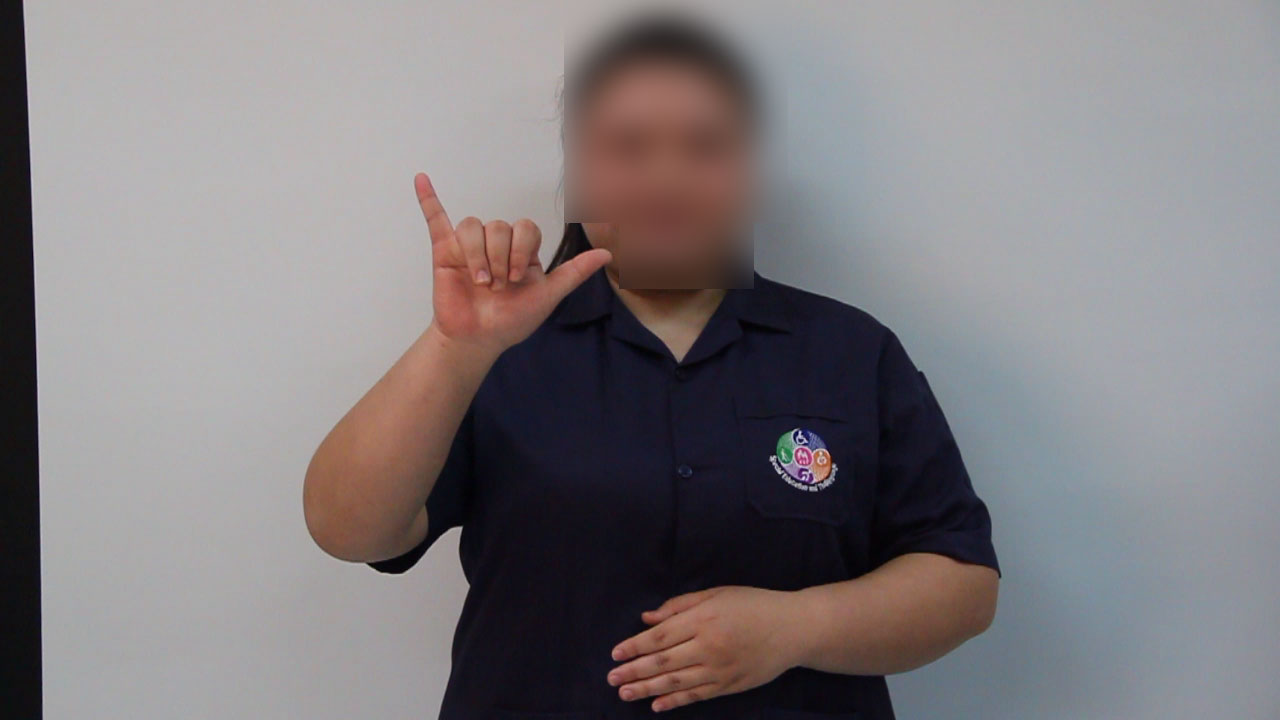yor: (400, 163, 618, 356)
